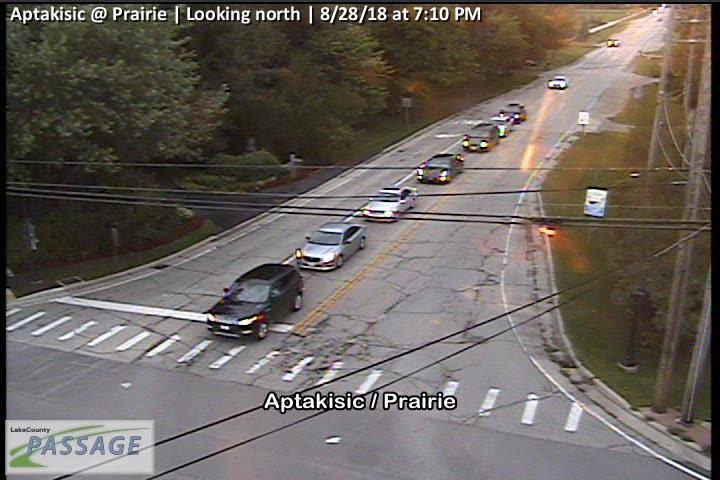SUV: (205, 263, 304, 343), (463, 123, 500, 153), (499, 102, 525, 126)
Sedan: (295, 222, 366, 271), (362, 187, 417, 224), (416, 153, 465, 183), (489, 114, 514, 138), (548, 74, 568, 90)
